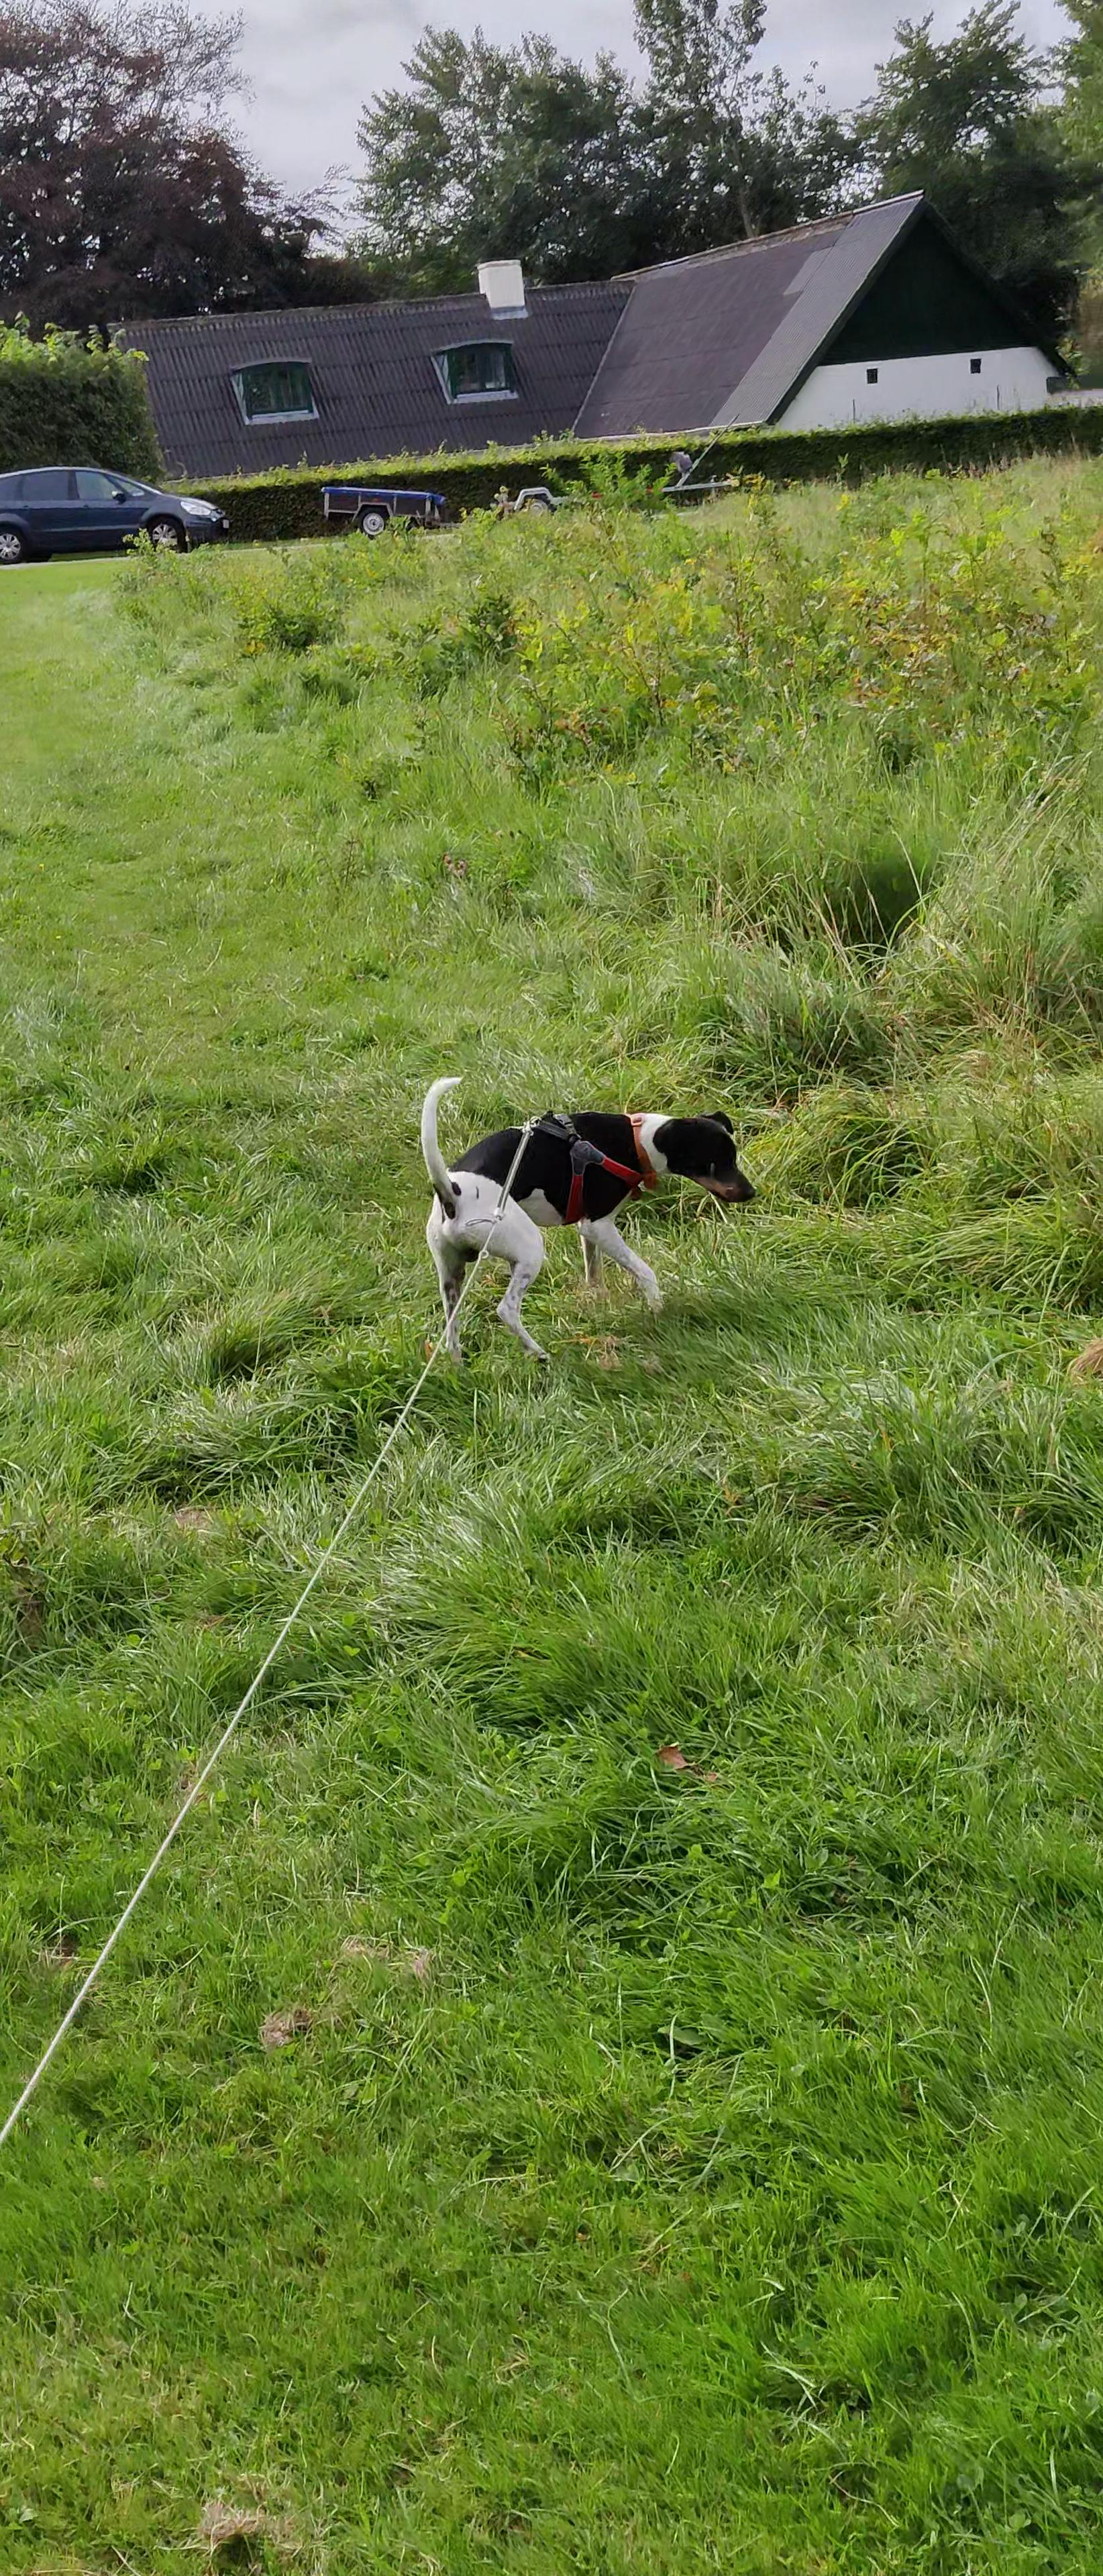Dog: (413, 1074, 759, 1367)
